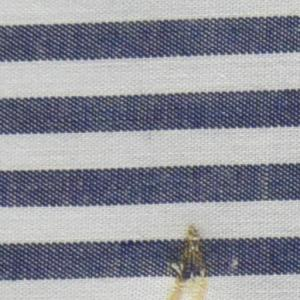Damage: (229, 255, 243, 277)
Oil Stain: (166, 216, 211, 300)
